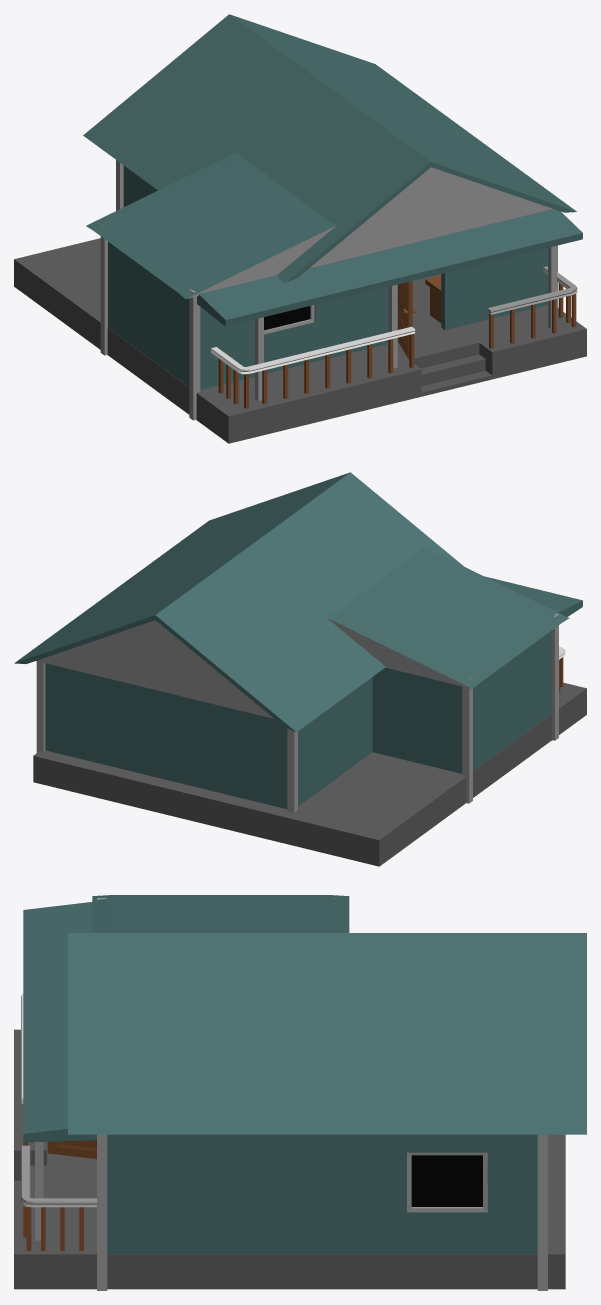
File: House.fbx
3 views of the same model, one above another, from view 1: azimuth 30°, elevation 25°; view 2: azimuth 150°, elevation 25°; view 3: azimuth 270°, elevation 25° (orthographic). The views are drawn at different scales.
Visible parts, largest first — view 1: Cube.029, Plane.001, Plane, Cube.030, Cube.034, Cube.042, Cube.039, Cube.035, Cube.037, Cube.028, Cube.019, Cube.004; view 2: Cube.029, Plane, Plane.001, Cube.042, Cube.030; view 3: Cube.029, Plane, Plane.001, Cube.030, Cube.018, Cube.042, Cube.037, Cube.034, Cube.019, Cube.039.
Part boxes in pixels (x1=…): Cube.029: x1=83, y1=14, x2=576, y2=298; Plane.001: x1=14, y1=238, x2=586, y2=443; Plane: x1=108, y1=165, x2=547, y2=389; Cube.030: x1=197, y1=209, x2=582, y2=326; Cube.034: x1=218, y1=283, x2=576, y2=408; Cube.042: x1=100, y1=160, x2=557, y2=420; Cube.039: x1=255, y1=245, x2=556, y2=401; Cube.035: x1=210, y1=326, x2=415, y2=374; Cube.037: x1=487, y1=266, x2=577, y2=314; Cube.028: x1=264, y1=305, x2=314, y2=334; Cube.019: x1=398, y1=281, x2=415, y2=359; Cube.004: x1=425, y1=275, x2=441, y2=322; Cube.029: x1=14, y1=472, x2=569, y2=732; Plane: x1=45, y1=631, x2=551, y2=809; Plane.001: x1=33, y1=682, x2=586, y2=866; Cube.042: x1=36, y1=613, x2=558, y2=812; Cube.030: x1=484, y1=576, x2=582, y2=616; Cube.029: x1=68, y1=895, x2=586, y2=1134; Plane: x1=107, y1=1134, x2=537, y2=1253; Plane.001: x1=14, y1=1029, x2=565, y2=1289; Cube.030: x1=23, y1=902, x2=107, y2=1142; Cube.018: x1=407, y1=1152, x2=487, y2=1211; Cube.042: x1=97, y1=898, x2=547, y2=1290; Cube.037: x1=21, y1=1145, x2=96, y2=1207; Cube.034: x1=23, y1=1136, x2=83, y2=1250; Cube.019: x1=47, y1=1140, x2=96, y2=1159; Cube.039: x1=35, y1=1142, x2=43, y2=1240.
Bounding box in the file's own units: 926 × 490 × 935.
